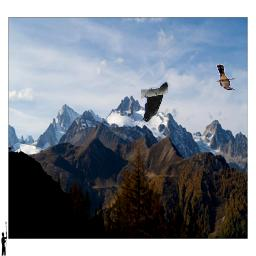Crow: (141, 82, 168, 122)
Cuckoo: (216, 64, 235, 90)
